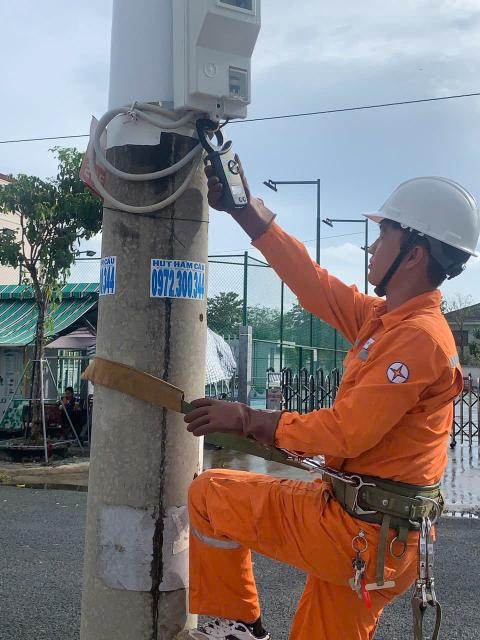gloves: (188, 136, 294, 252), (178, 372, 299, 461)
harness: (295, 452, 472, 548)
helmet: (364, 122, 480, 278)
shoes: (156, 607, 286, 640)
